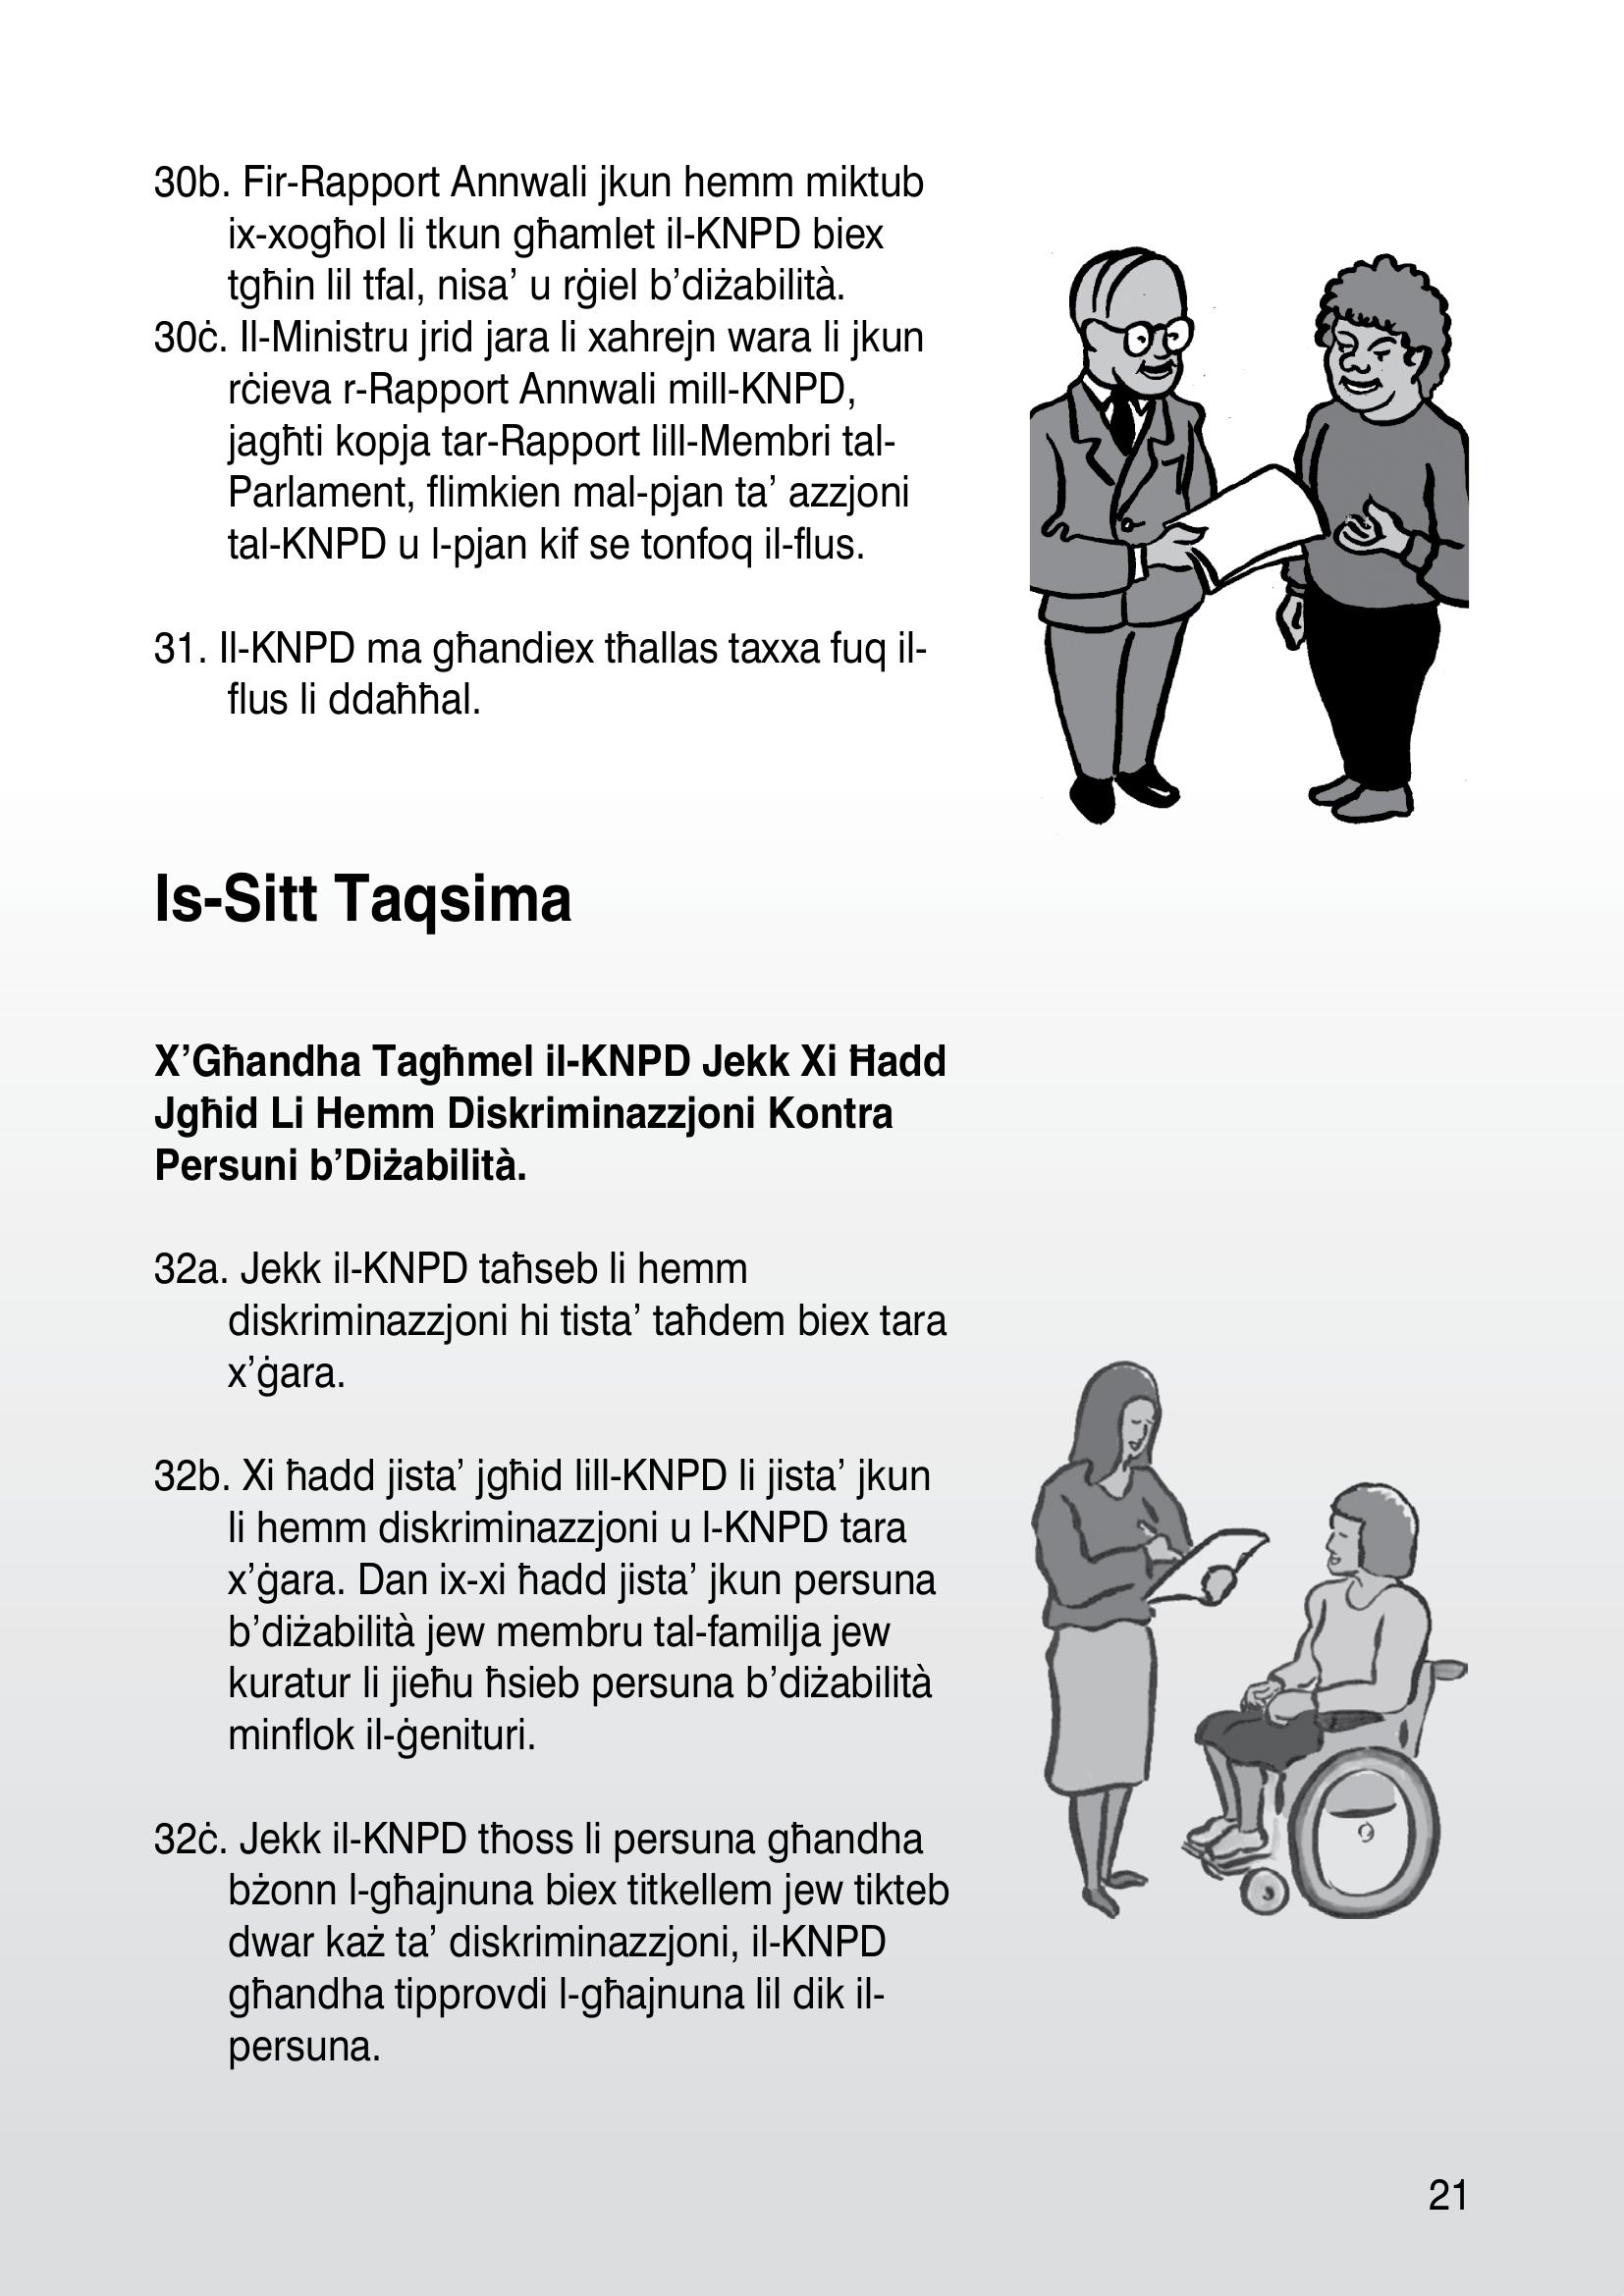text: (116, 139, 974, 2083)
